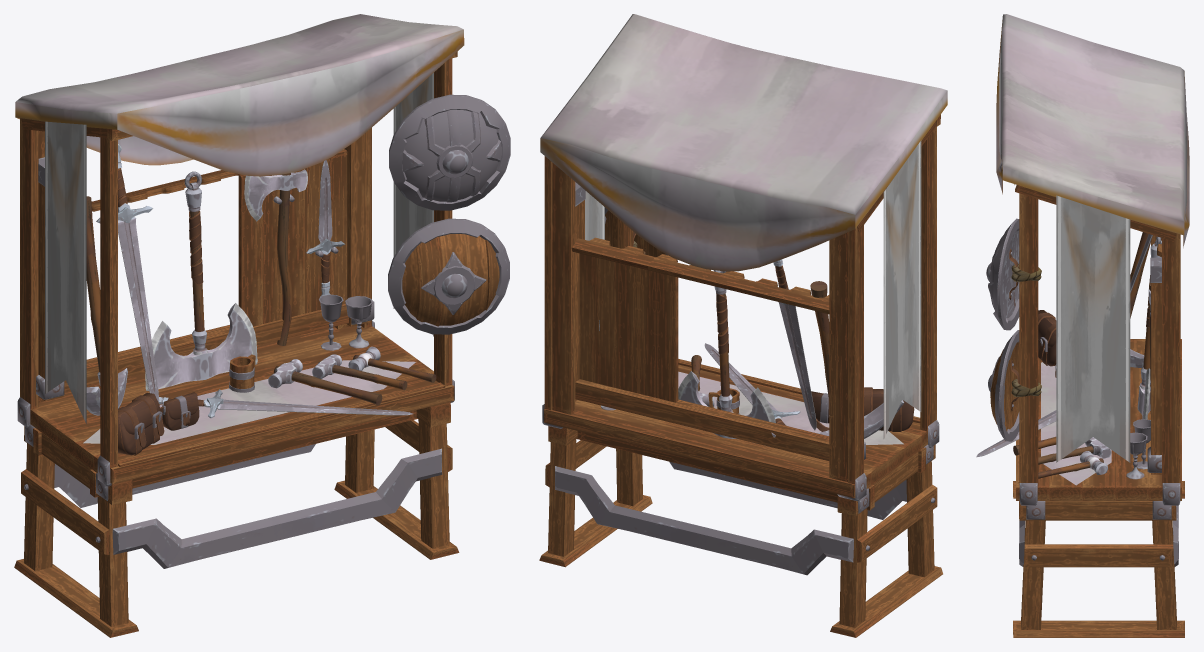
Rendered from Stall_Blacksmith.fbx.
3 views of the same model, side by side, from view 1: azimuth 30°, elevation 25°; view 2: azimuth 150°, elevation 25°; view 3: azimuth 270°, elevation 25° (orthographic). The views are drawn at different scales.
Visible parts, largest first — view 1: Stall_Blacksmith; view 2: Stall_Blacksmith; view 3: Stall_Blacksmith.
Boxes of the visible parts, x1,y1,x2,y2 form: Stall_Blacksmith: [14, 14, 510, 637]; Stall_Blacksmith: [539, 14, 947, 637]; Stall_Blacksmith: [976, 14, 1189, 637].
Size of the model in its own units: 206 by 266 by 108.
